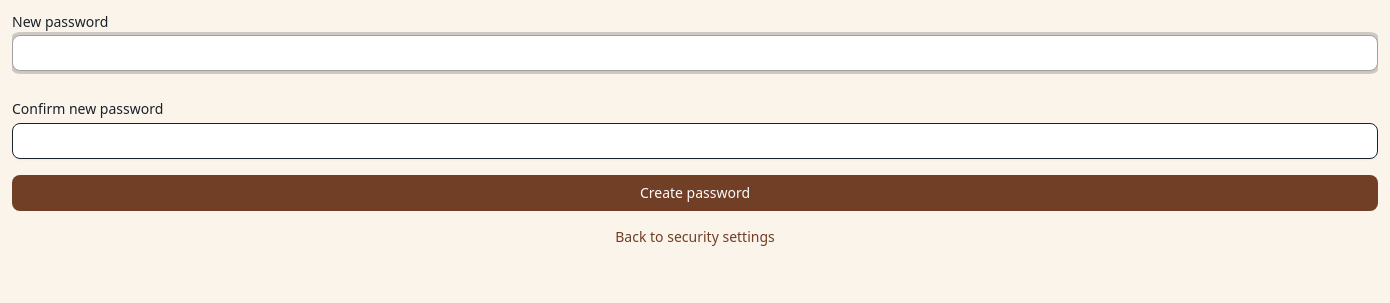
it: CreatePasswordForm › should show error when API fails
In the password field named "newPassword": (695, 53) top-left (12, 35), bottom-right (1378, 71), type "NewPassword123!"
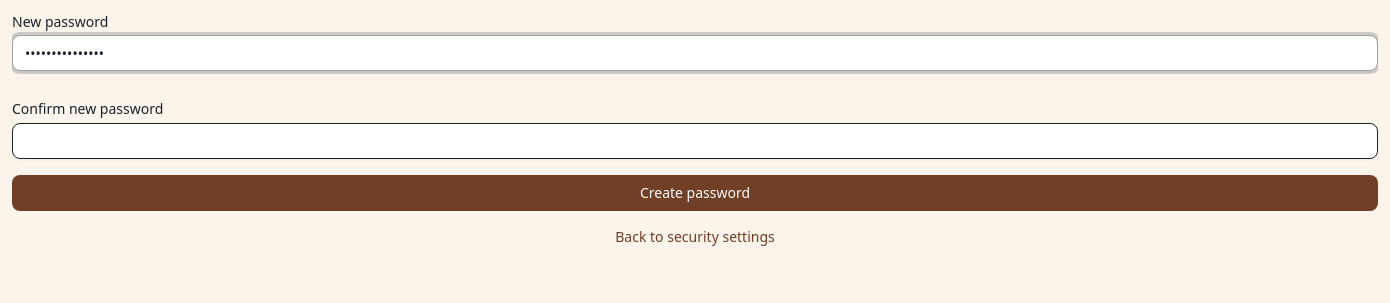
In the password field named "confirmPassword": (695, 141) top-left (12, 123), bottom-right (1378, 159), type "NewPassword123!"
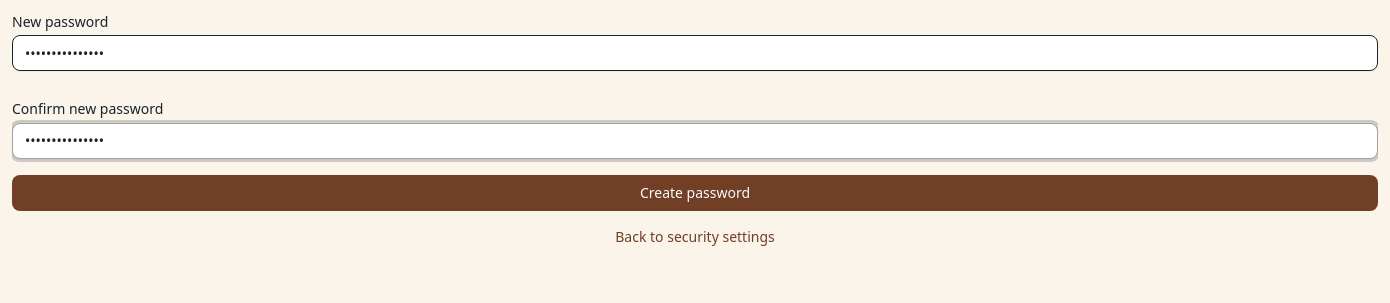
Click the submit button: (695, 193) top-left (12, 175), bottom-right (1378, 211)
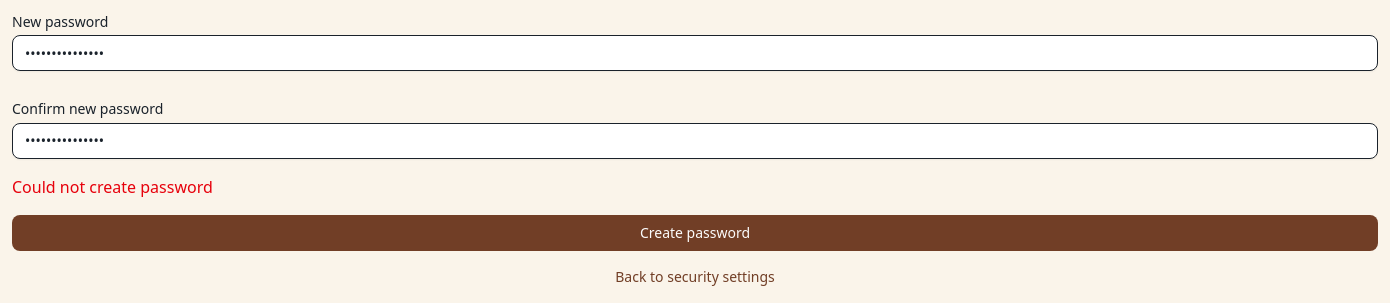
Check: the text "Could not create password" is shown, box top-left (12, 176), bottom-right (213, 198)
